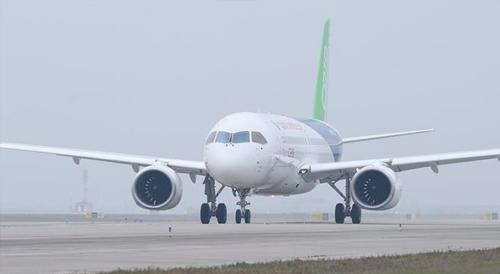airplane: (2, 16, 500, 226)
